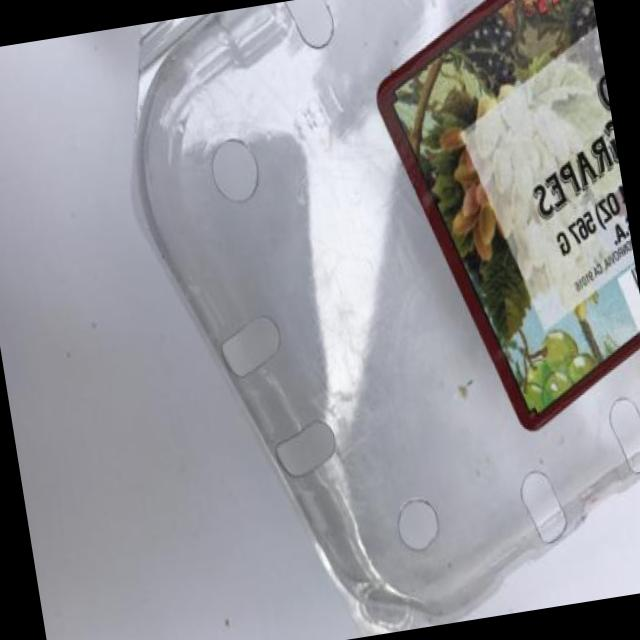Clamshell: (104, 0, 640, 640)
Label: (350, 0, 640, 461)
